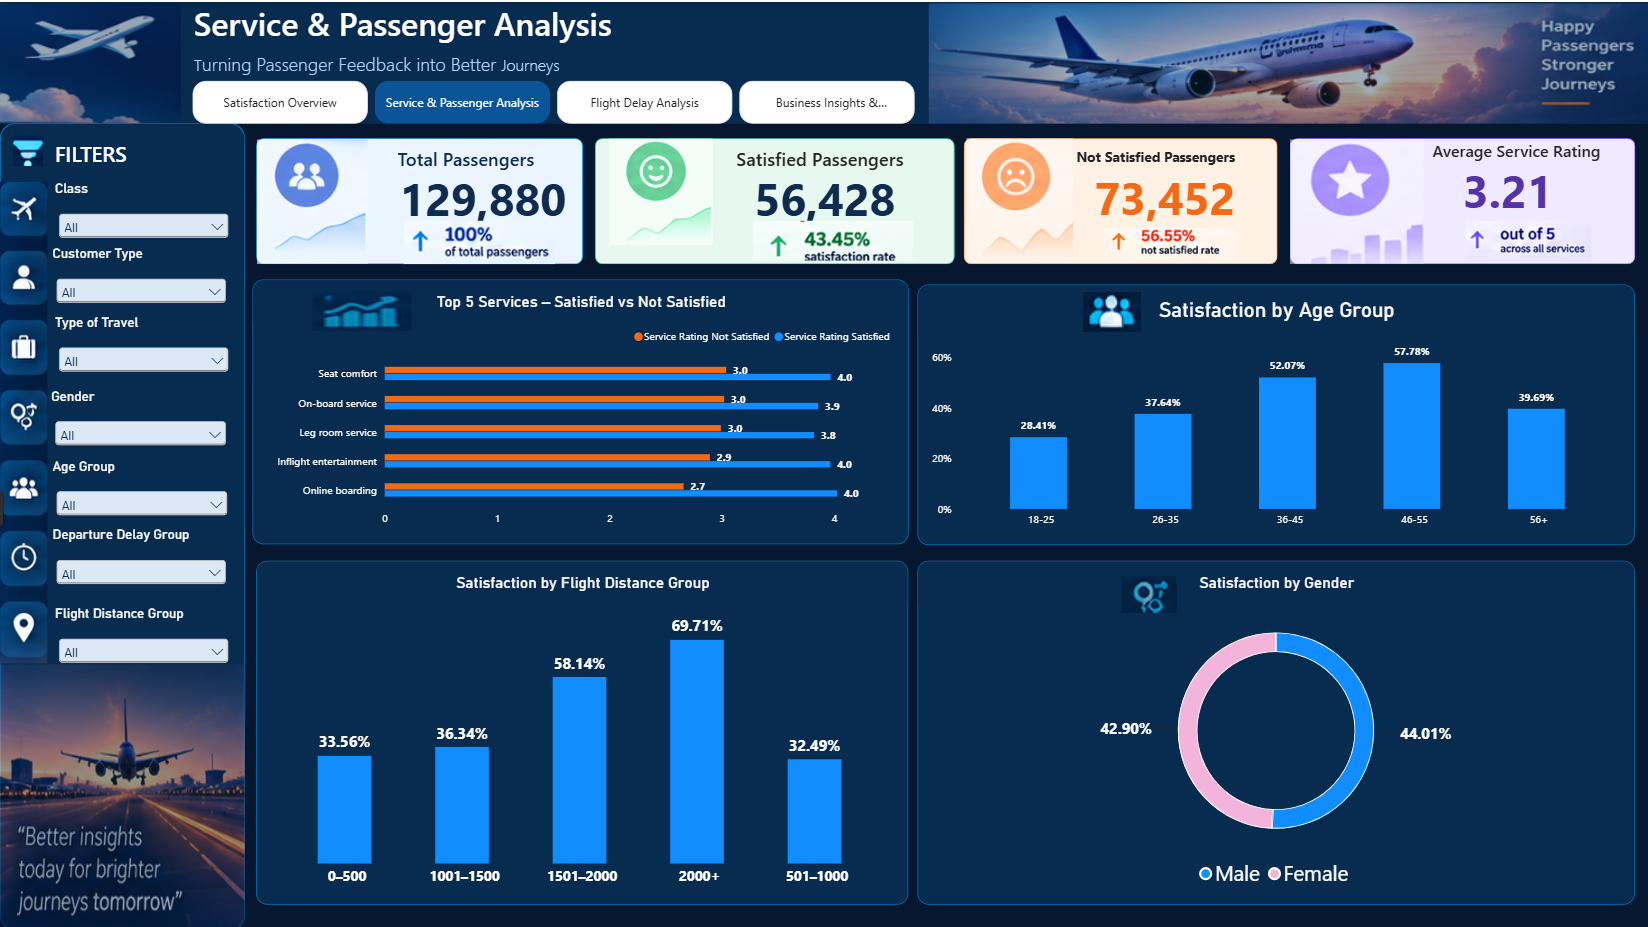

This screenshot's page, from the dashboard's own definition file:
{"tool":"powerbi","page":{"name":"Service & Passenger Analysis","canvas":[1920,1080],"ordinal":1},"visuals":[{"type":"shape","box":[0,0,1920,141.7],"z":0},{"type":"textbox","box":[225,0,718.3,56.7],"z":1000},{"type":"textbox","box":[225,56.7,453.3,35],"z":2000},{"type":"image","box":[1080,1.7,840,140],"z":3000},{"type":"image","box":[0,1.7,210,140],"z":4000},{"type":"shape","box":[0,141.7,285,938.3],"z":5000},{"type":"textbox","box":[63.3,160,101.7,43.3],"z":6000},{"type":"slicer","title":"Class","fields":{"Values":["airline_satisfaction_powerbi.Class"]},"box":[63.3,208.3,206.7,68.3],"z":7000},{"type":"slicer","title":"Customer Type","fields":{"Values":["airline_satisfaction_powerbi.Customer Type"]},"box":[61.7,283.3,206.7,80],"z":8000},{"type":"slicer","title":"Type of Travel","fields":{"Values":["airline_satisfaction_powerbi.Type of Travel"]},"box":[63.3,363.3,206.7,80],"z":9000},{"type":"slicer","title":"Gender","fields":{"Values":["airline_satisfaction_powerbi.Gender"]},"box":[60,450,208.3,80],"z":10000},{"type":"slicer","title":"Departure Delay Group","fields":{"Values":["airline_satisfaction_powerbi.Departure Delay Group"]},"box":[61.7,610,206.7,80],"z":11000},{"type":"slicer","title":"Flight Distance Group","fields":{"Values":["airline_satisfaction_powerbi.Flight Distance Group"]},"box":[63.3,701.7,206.7,80],"z":12000},{"type":"shape","box":[298.3,158.3,380,146.7],"z":13000},{"type":"cardVisual","fields":{"Data":["Dax_measures.Total Passengers Display"]},"box":[444.8,190.1,233.7,73.3],"z":14000},{"type":"textbox","box":[461.7,166.7,173.3,41.7],"z":15000},{"type":"shape","box":[691.7,158.3,418.3,146.7],"z":16000},{"type":"shape","box":[1121.7,158.3,365,146.7],"z":17000},{"type":"shape","box":[1500,158.3,401.7,146.7],"z":18000},{"type":"cardVisual","fields":{"Data":["Dax_measures.Satisfied Passengers Display"]},"box":[856.7,190,206.7,73.3],"z":19000},{"type":"textbox","box":[856.7,166.7,206.7,41.7],"z":20000},{"type":"image","box":[703.3,158.3,130,125],"z":21000},{"type":"image","box":[1121.7,158.3,130,143.3],"z":22000},{"type":"cardVisual","fields":{"Data":["Dax_measures.Not Satisfied Passengers Display"]},"box":[1251.7,188.3,206.7,75],"z":23000},{"type":"textbox","box":[1251.7,168.3,206.7,41.7],"z":24000},{"type":"cardVisual","fields":{"Data":["Dax_measures.Average Service Rating"]},"box":[1666.7,183.3,175,71.7],"z":25000},{"type":"image","box":[1251.7,263.3,218.3,38.3],"z":26000},{"type":"image","box":[873.3,255,190,46.7],"z":27000},{"type":"image","box":[298.3,160,130,145],"z":28000},{"type":"image","box":[461.7,255,190,50],"z":29000},{"type":"textbox","box":[1666.7,160,206.7,41.7],"z":30000},{"type":"image","box":[1500,160,155,145],"z":31000},{"type":"image","box":[1666.7,255,223.3,46.7],"z":32000},{"type":"image","box":[0,770,285,310],"z":33000},{"type":"image","box":[0,210,55,560],"z":34000},{"type":"image","box":[10,155,45,35],"z":35000},{"type":"slicer","title":"Age Group","fields":{"Values":["airline_satisfaction_powerbi.Age Group"]},"box":[61.7,530,208.3,80],"z":36000},{"type":"donutChart","title":"Satisfaction by Gender","fields":{"Category":["airline_satisfaction_powerbi.Gender"],"Y":["Dax_measures.Satisfaction Rate"]},"box":[1067.1,650,834.3,400],"z":37000},{"type":"image","box":[1299.4,668,73.3,43.3],"z":38000},{"type":"clusteredColumnChart","title":"Satisfaction by Age Group","fields":{"Category":["airline_satisfaction_powerbi.Age Group"],"Y":["Dax_measures.Satisfaction Rate"]},"box":[1067.1,328.6,834.3,302.9],"z":39000},{"type":"image","box":[1251.7,336.7,83.3,46.7],"z":40000},{"type":"clusteredBarChart","title":"Top 5 Services – Satisfied vs Not Satisfied","fields":{"Category":["Service Names.Service"],"Y":["Dax_measures.Service Rating Not Satisfied","Dax_measures.Service Rating Satisfied"]},"box":[293.3,323.3,763.3,308.3],"z":41000},{"type":"image","box":[363.3,335,115,48.3],"z":42000},{"type":"clusteredColumnChart","title":"Satisfaction by Flight Distance Group","fields":{"Category":["airline_satisfaction_powerbi.Flight Distance Group"],"Y":["Dax_measures.Satisfaction Rate"]},"box":[298.3,650,758.3,400],"z":43000},{"type":"pageNavigator","box":[224.6,91.7,842.4,50.6],"z":44000}]}

Visuals, with their boxes in screenshot pixels (x1, y1, x2, y2), scaled from the page's 1920x1080 canvas onto the 1648x927 screenshot:
shape: (x1=0, y1=0, x2=1647, y2=122)
textbox: (x1=193, y1=0, x2=810, y2=49)
textbox: (x1=193, y1=49, x2=582, y2=79)
image: (x1=927, y1=1, x2=1647, y2=122)
image: (x1=0, y1=1, x2=180, y2=122)
shape: (x1=0, y1=122, x2=245, y2=926)
textbox: (x1=54, y1=137, x2=142, y2=174)
"Class" slicer: (x1=54, y1=179, x2=232, y2=237)
"Customer Type" slicer: (x1=53, y1=243, x2=230, y2=312)
"Type of Travel" slicer: (x1=54, y1=312, x2=232, y2=380)
"Gender" slicer: (x1=52, y1=386, x2=230, y2=455)
"Departure Delay Group" slicer: (x1=53, y1=524, x2=230, y2=592)
"Flight Distance Group" slicer: (x1=54, y1=602, x2=232, y2=671)
shape: (x1=256, y1=136, x2=582, y2=262)
cardVisual - Dax_measures.Total Passengers Display: (x1=382, y1=163, x2=582, y2=226)
textbox: (x1=396, y1=143, x2=545, y2=179)
shape: (x1=594, y1=136, x2=953, y2=262)
shape: (x1=963, y1=136, x2=1276, y2=262)
shape: (x1=1288, y1=136, x2=1632, y2=262)
cardVisual - Dax_measures.Satisfied Passengers Display: (x1=735, y1=163, x2=913, y2=226)
textbox: (x1=735, y1=143, x2=913, y2=179)
image: (x1=604, y1=136, x2=715, y2=243)
image: (x1=963, y1=136, x2=1074, y2=259)
cardVisual - Dax_measures.Not Satisfied Passengers Display: (x1=1074, y1=162, x2=1252, y2=226)
textbox: (x1=1074, y1=144, x2=1252, y2=180)
cardVisual - Dax_measures.Average Service Rating: (x1=1431, y1=157, x2=1581, y2=219)
image: (x1=1074, y1=226, x2=1262, y2=259)
image: (x1=750, y1=219, x2=913, y2=259)
image: (x1=256, y1=137, x2=368, y2=262)
image: (x1=396, y1=219, x2=559, y2=262)
textbox: (x1=1431, y1=137, x2=1608, y2=173)
image: (x1=1288, y1=137, x2=1421, y2=262)
image: (x1=1431, y1=219, x2=1622, y2=259)
image: (x1=0, y1=661, x2=245, y2=926)
image: (x1=0, y1=180, x2=47, y2=661)
image: (x1=9, y1=133, x2=47, y2=163)
"Age Group" slicer: (x1=53, y1=455, x2=232, y2=524)
"Satisfaction by Gender" donutChart: (x1=916, y1=558, x2=1632, y2=901)
image: (x1=1115, y1=573, x2=1178, y2=611)
"Satisfaction by Age Group" clusteredColumnChart: (x1=916, y1=282, x2=1632, y2=542)
image: (x1=1074, y1=289, x2=1146, y2=329)
"Top 5 Services – Satisfied vs Not Satisfied" clusteredBarChart: (x1=252, y1=277, x2=907, y2=542)
image: (x1=312, y1=288, x2=411, y2=329)
"Satisfaction by Flight Distance Group" clusteredColumnChart: (x1=256, y1=558, x2=907, y2=901)
pageNavigator: (x1=193, y1=79, x2=916, y2=122)
